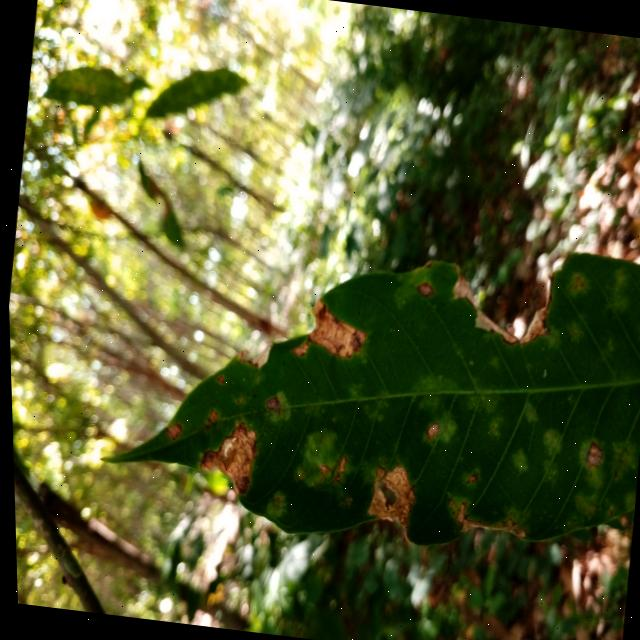Leaf-Blight: (287, 294, 370, 364), (192, 416, 259, 499), (445, 273, 520, 343), (362, 459, 419, 528), (451, 505, 521, 536), (519, 306, 547, 346), (423, 421, 437, 436)
